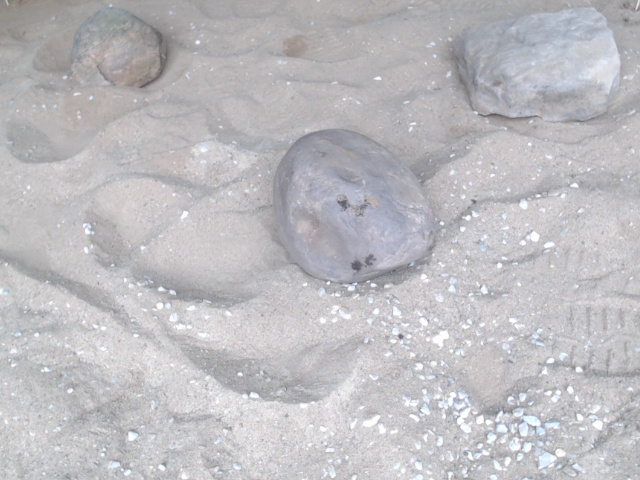rock: (272, 127, 435, 281), (454, 5, 620, 121), (70, 7, 168, 90)
